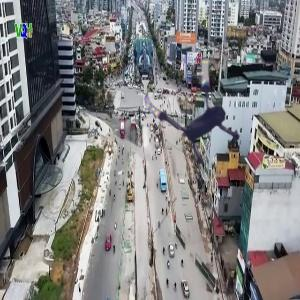drone: (142, 54, 263, 175)
